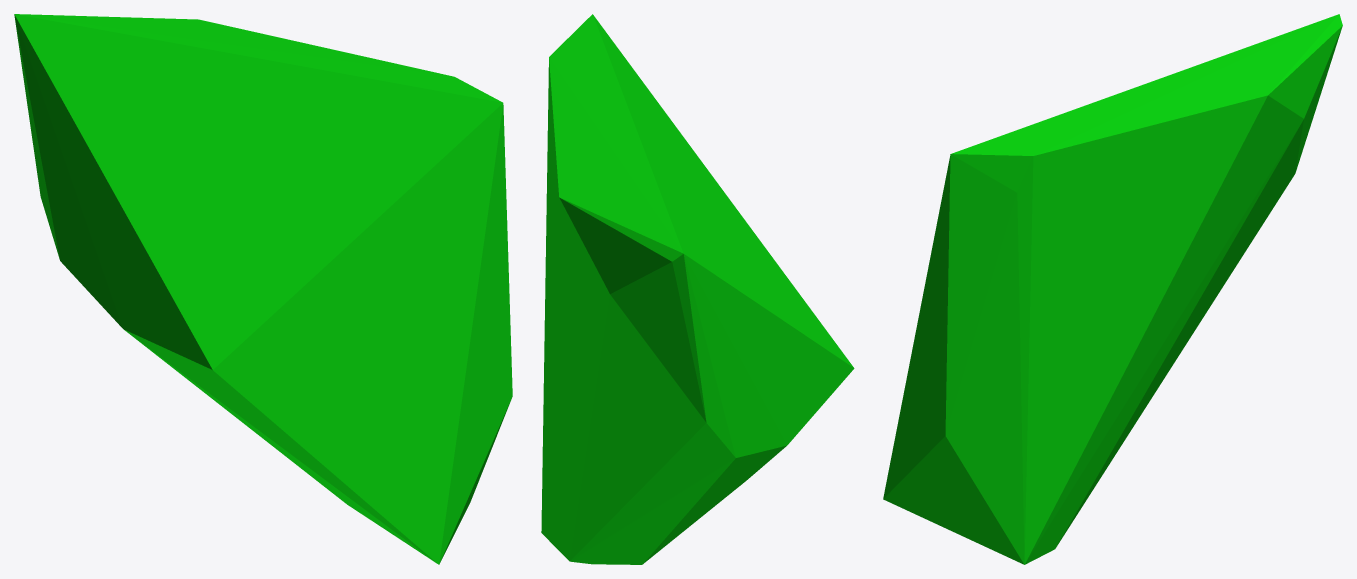
File: shoulder-roll-housing_convex_piece_009.obj
3 views of the same model, side by side, from view 1: azimuth 30°, elevation 25°; view 2: azimuth 150°, elevation 25°; view 3: azimuth 270°, elevation 25° (orthographic). The views are drawn at different scales.
Bounding box in the file's own units: 0.0276 × 0.0399 × 0.0396.
